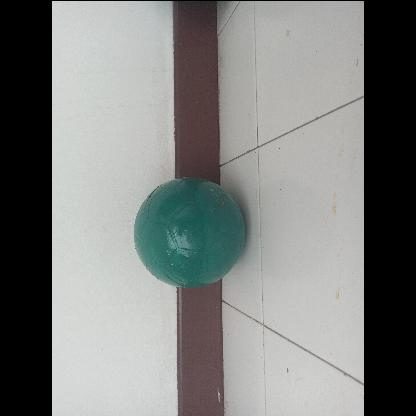green_ball: (134, 174, 246, 286)
